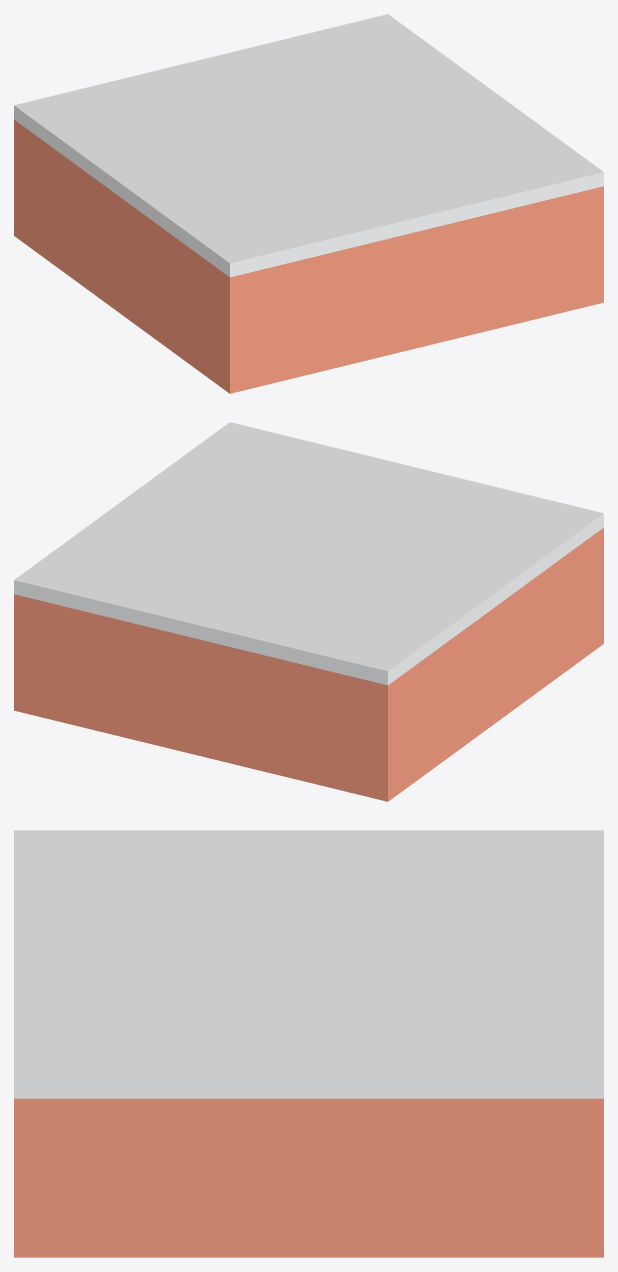
Rendered from platform_005.glb.
3 renders of one model, top to bottom at view 1: azimuth 30°, elevation 25°; view 2: azimuth 150°, elevation 25°; view 3: azimuth 270°, elevation 25°, orthographic. The views are drawn at different scales.
Visible parts, largest first — view 1: platform_005; view 2: platform_005; view 3: platform_005.
Boxes of the visible parts, <box> form: platform_005: <box>14,14,603,393</box>; platform_005: <box>14,422,603,801</box>; platform_005: <box>14,830,603,1257</box>.
Size of the model in its own units: 15 by 5 by 15.
1 material, 1 textured.
